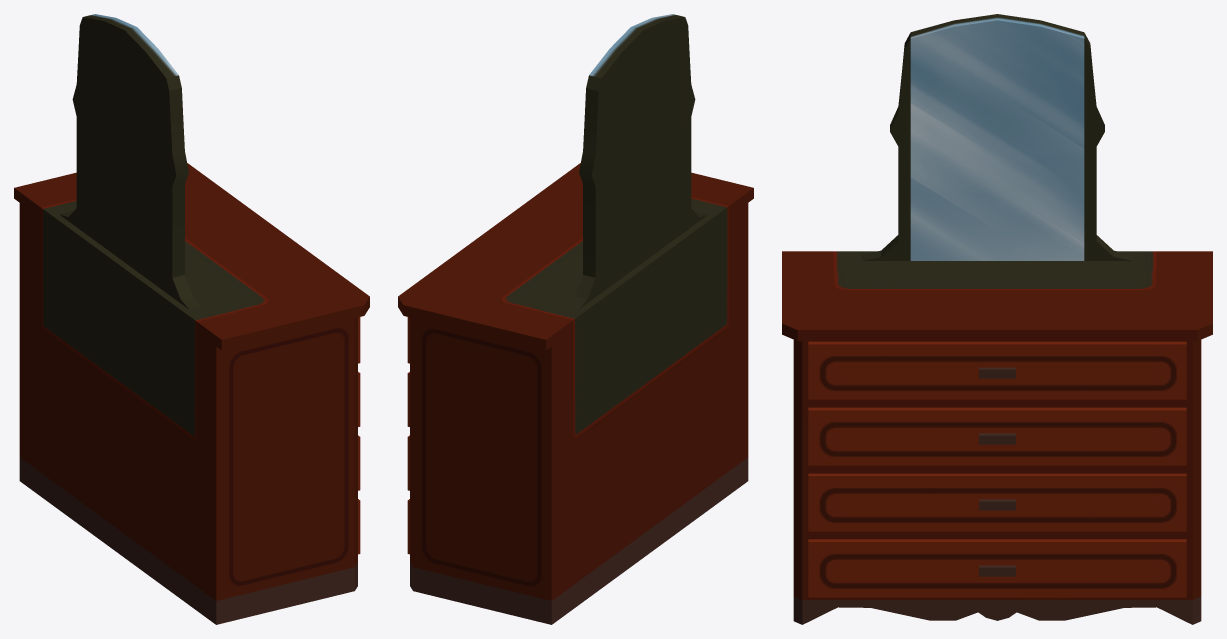
Rendered from VicDresser.fbx.
The picture shows the model from 3 angles, left to right: view 1: azimuth 30°, elevation 25°; view 2: azimuth 150°, elevation 25°; view 3: azimuth 270°, elevation 25°; orthographic projection. The views are drawn at different scales.
Visible parts, largest first — view 1: polySurface57; view 2: polySurface57; view 3: polySurface57, polySurface49, polySurface51, polySurface55, polySurface53.
Part boxes in pixels (left/top/right/bottom): polySurface57: left=14, top=14, right=369, bottom=624; polySurface57: left=398, top=14, right=753, bottom=624; polySurface57: left=782, top=14, right=1212, bottom=624; polySurface49: left=808, top=341, right=1186, bottom=399; polySurface51: left=808, top=407, right=1186, bottom=465; polySurface55: left=808, top=473, right=1186, bottom=531; polySurface53: left=808, top=539, right=1186, bottom=597.
Size of the model in its own units: 1.6 by 5.12 by 3.7.
1 material, 1 textured.
